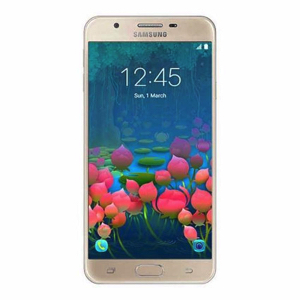Handphone: (78, 10, 221, 288)
